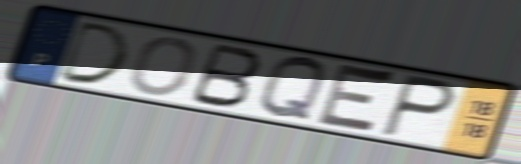B: (185, 41, 265, 110)
D: (53, 19, 134, 88)
E: (312, 60, 400, 139)
O: (125, 36, 200, 98)
P: (377, 72, 459, 141)
Q: (255, 54, 329, 124)
